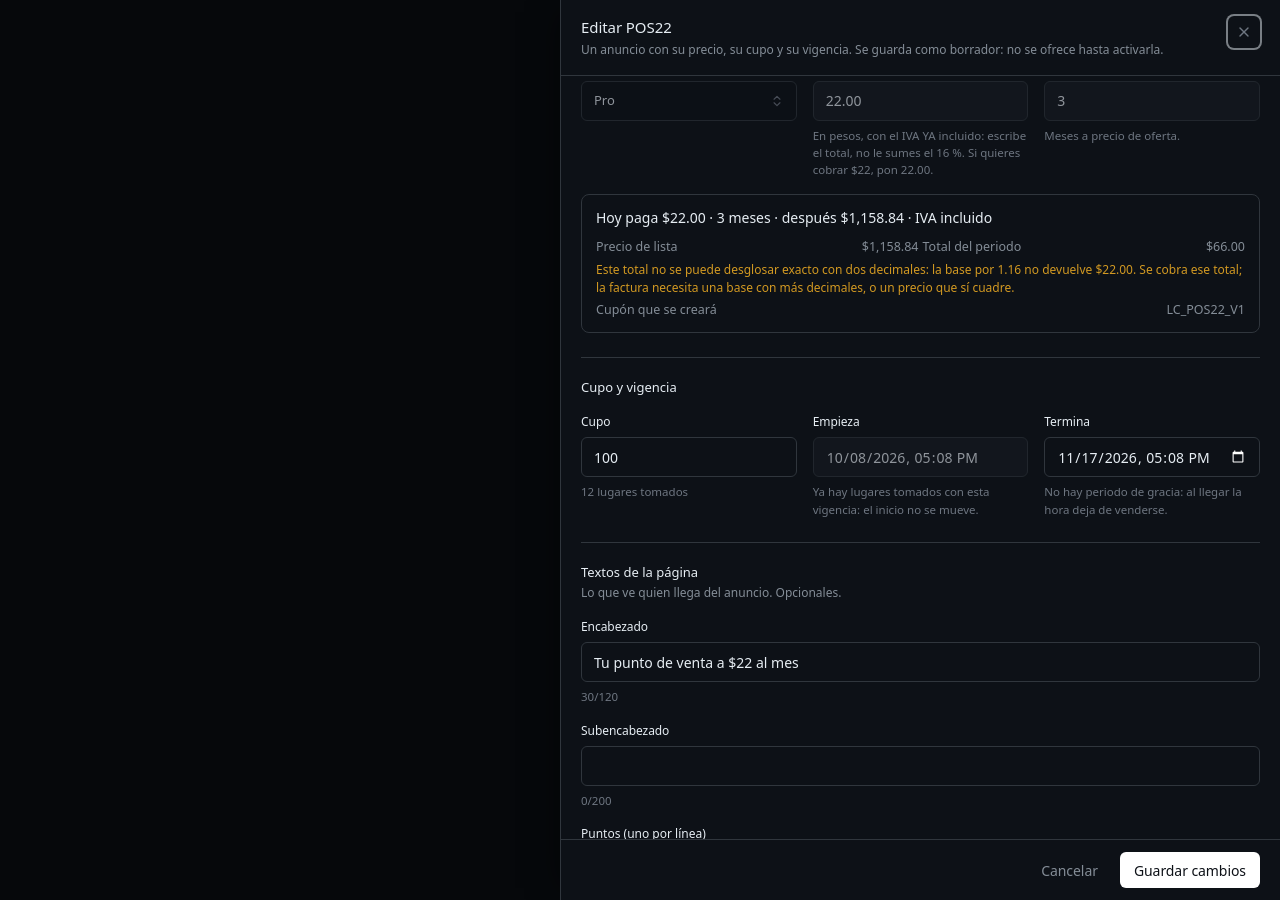
Test case: LaunchCampaignEditor › avisa si el cupo queda por debajo de los lugares ya tomados
(page scrolled)
Check: the heading "Editar POS22" is shown, box x1=581 y1=17 x2=672 y2=37
Type "5" into the field labelled "Cupo".
click(689, 457); type("5")  # box x1=581 y1=437 x2=797 y2=477
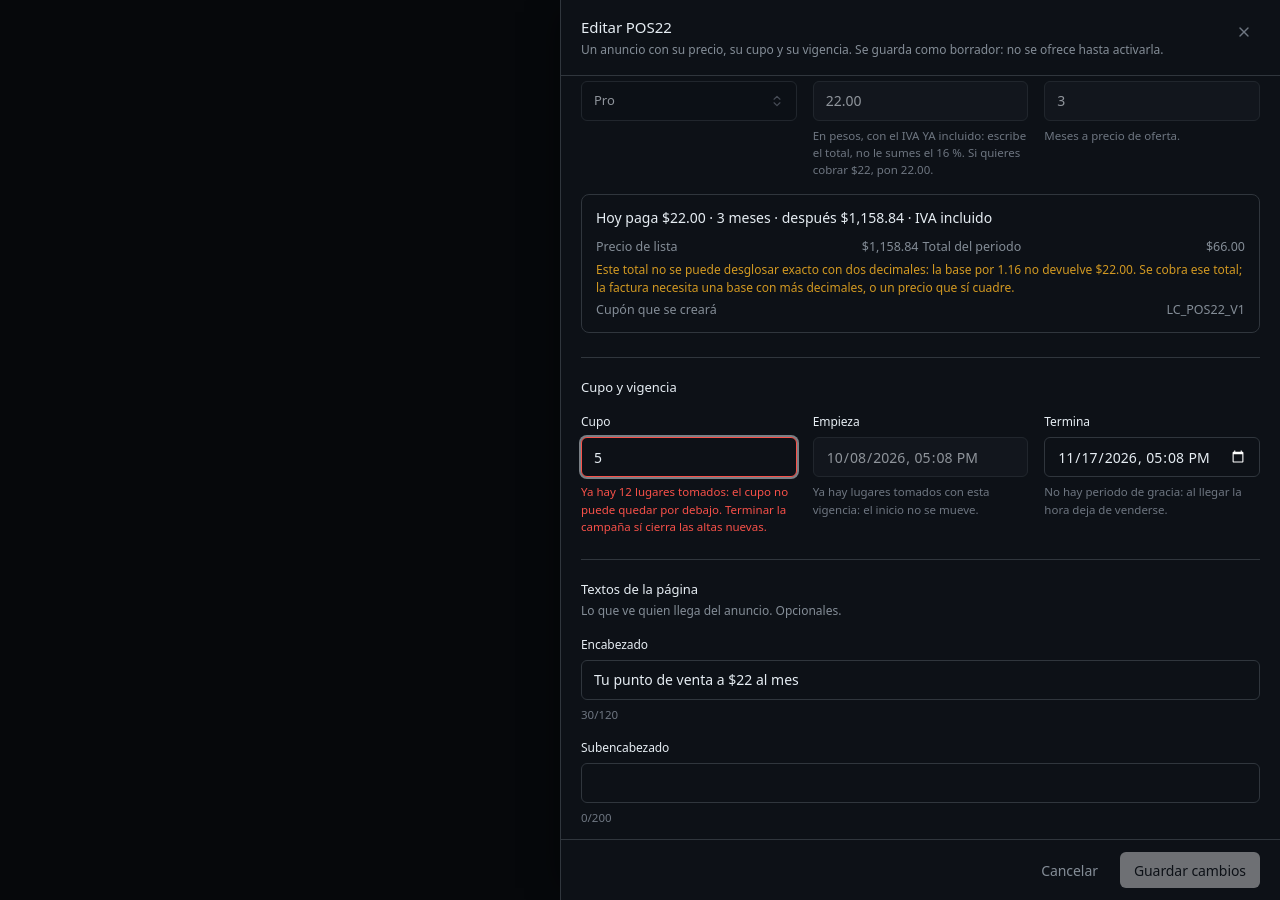
Check: the button "Guardar cambios" is disabled, box x1=1120 y1=852 x2=1260 y2=888
Check: the text "Ya hay 12 lugares tomados" is shown, box x1=581 y1=484 x2=788 y2=534
